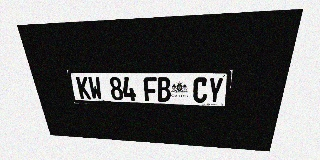4: (121, 77, 136, 101)
8: (109, 77, 124, 100)
B: (157, 77, 171, 102)
C: (193, 77, 208, 103)
F: (143, 77, 157, 101)
K: (76, 77, 91, 99)
W: (88, 77, 103, 100)
Y: (207, 77, 224, 103)
